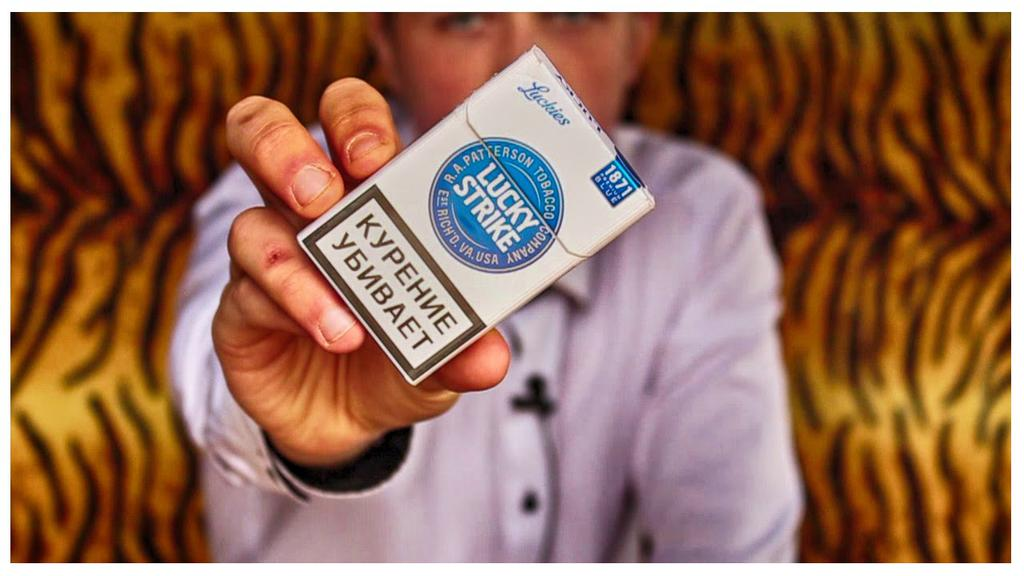lucky_strike_blue: (355, 106, 648, 336)
